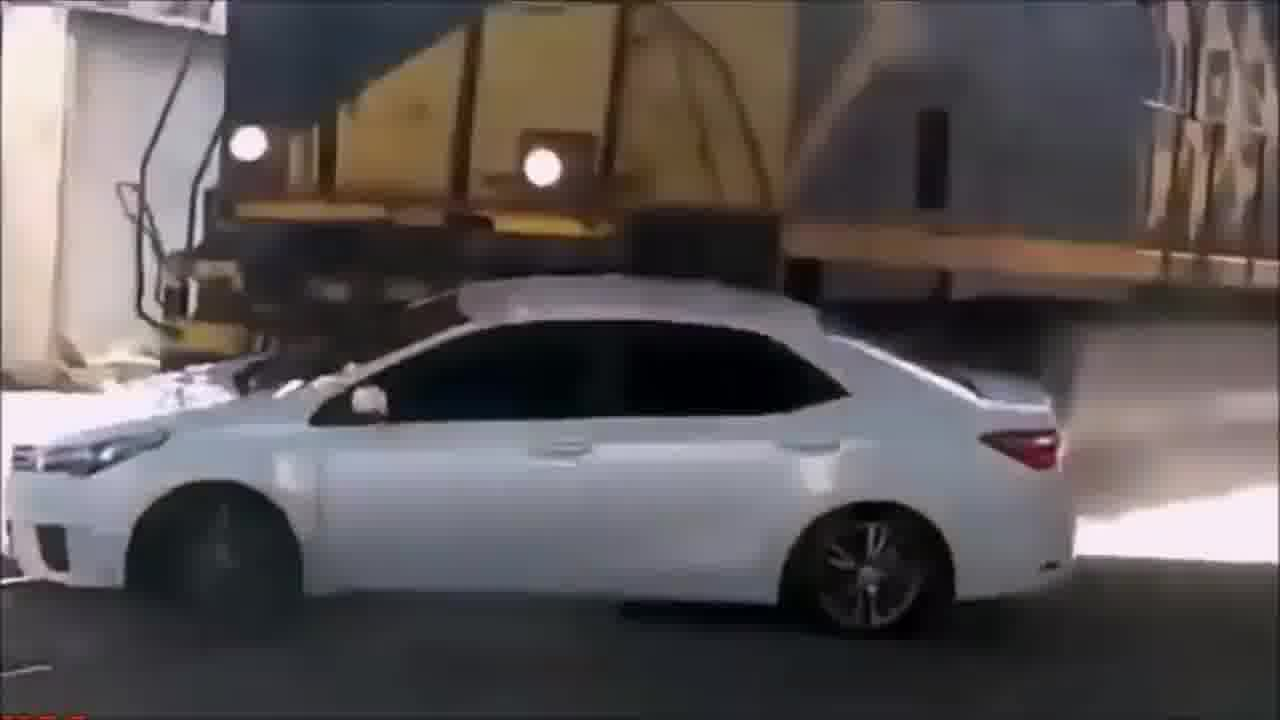crossing railway track: (16, 212, 1128, 675)
